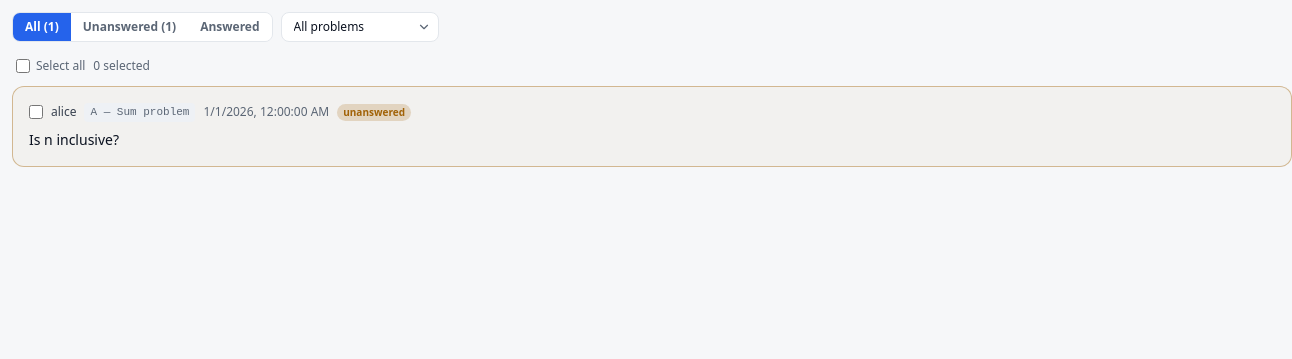
ClarificationsPanel › does not answer a question with an empty ruling
Click the checkbox named "Select clarification about: Is n inclusive?".
click(36, 112)  # box top-left (29, 105), bottom-right (43, 119)
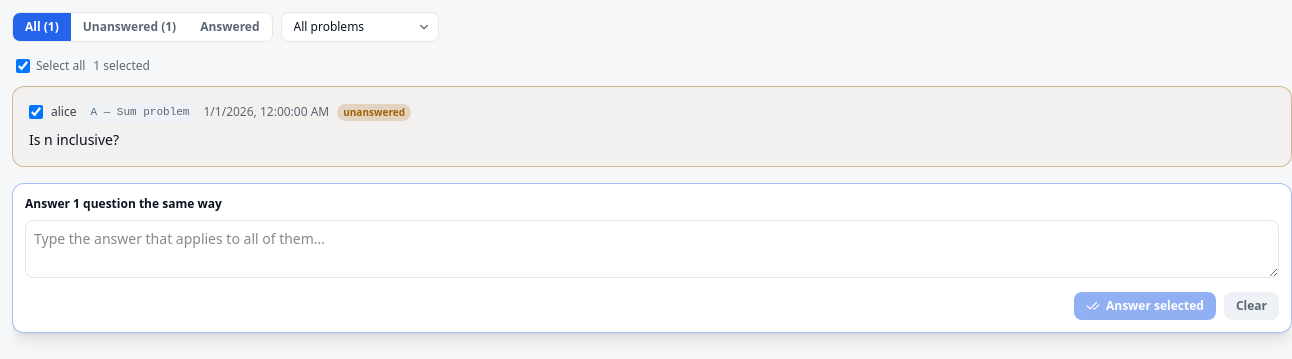
Expected: the button "Answer selected" is disabled, top-left (1074, 292), bottom-right (1216, 320)
